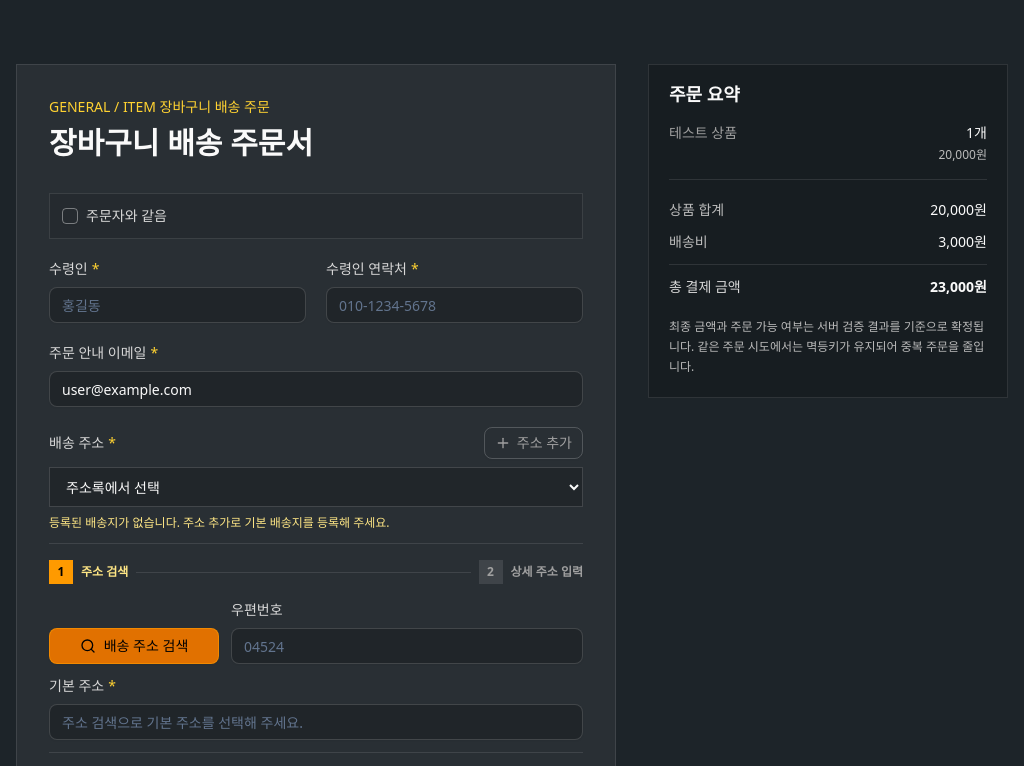
Test: CartDeliveryOrderClient › fills the address book form postal code and base address from Kakao postcode search
This screenshot has width=1024, height=766.
Click the button "주소 추가". click: (533, 443)
box: [484, 427, 583, 459]
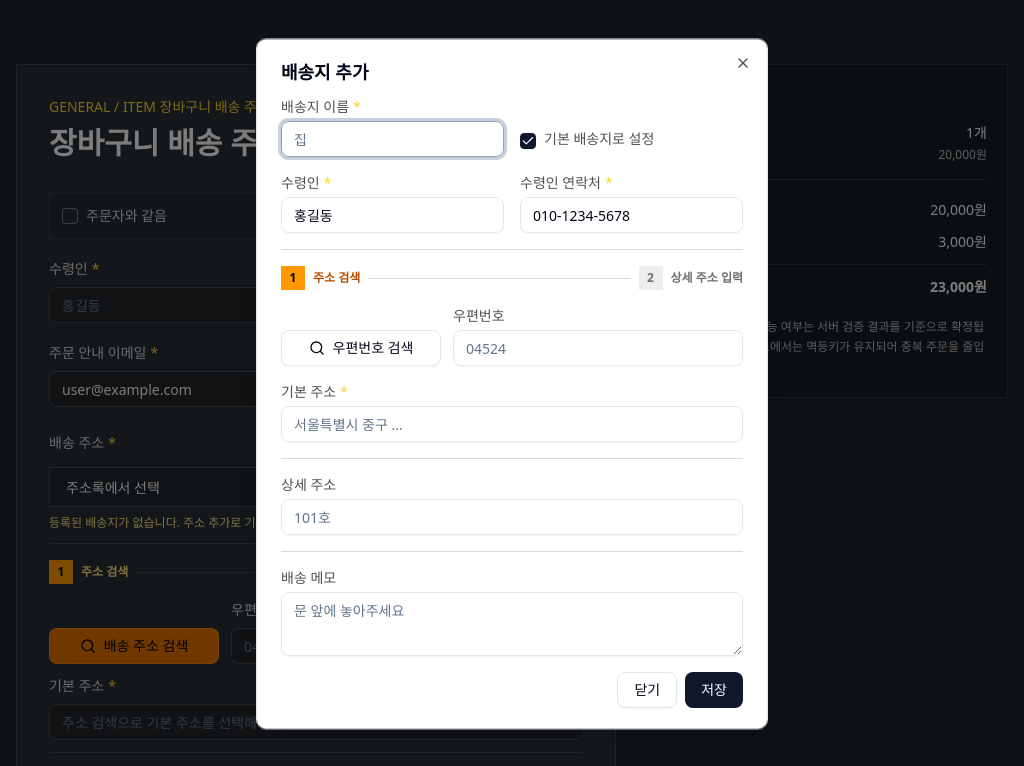
Click the button "우편번호 검색". click: (361, 348)
box: [281, 330, 441, 366]
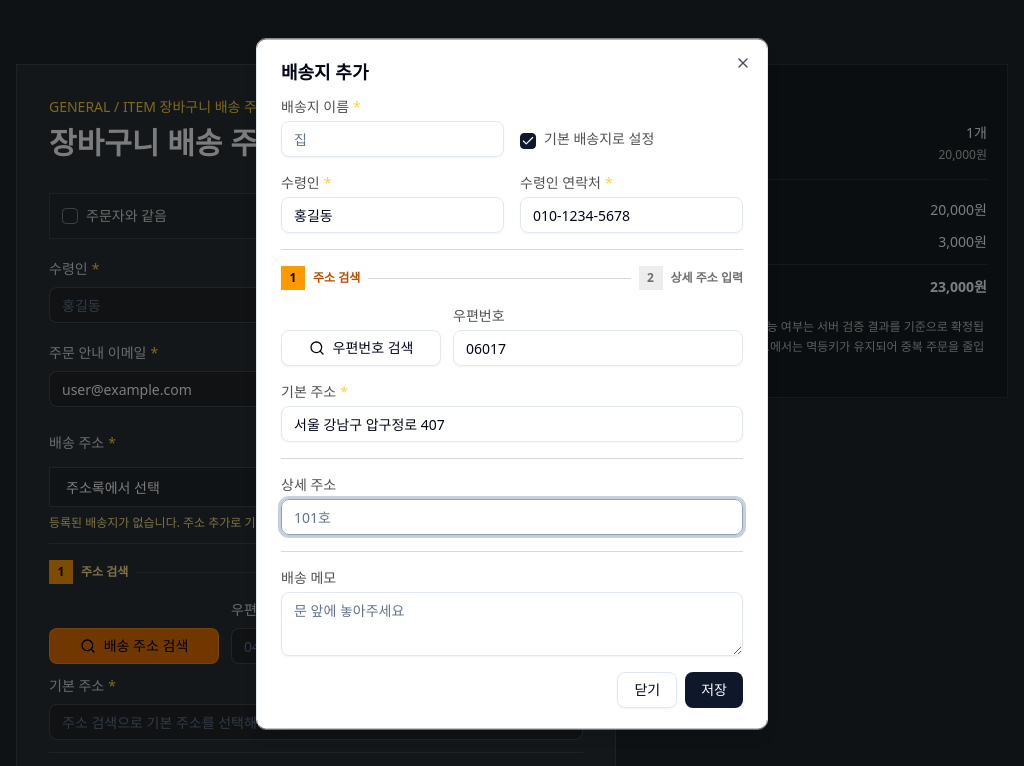
expect the field labelled "우편번호" holds "06017": met, box [453, 330, 743, 366]
expect the field labelled "기본 주소*" holds "서울 강남구 압구정로 407": met, box [281, 406, 743, 442]
